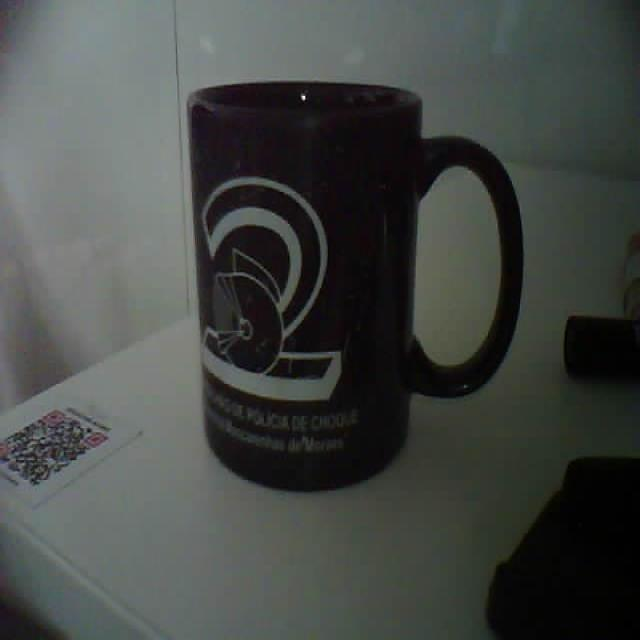caneca: (189, 83, 521, 489)
